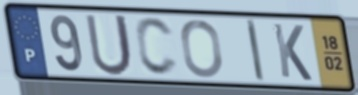9: (48, 14, 85, 74)
C: (133, 15, 181, 79)
I: (243, 18, 267, 84)
K: (270, 21, 315, 83)
O: (179, 17, 226, 79)
U: (83, 12, 136, 79)
